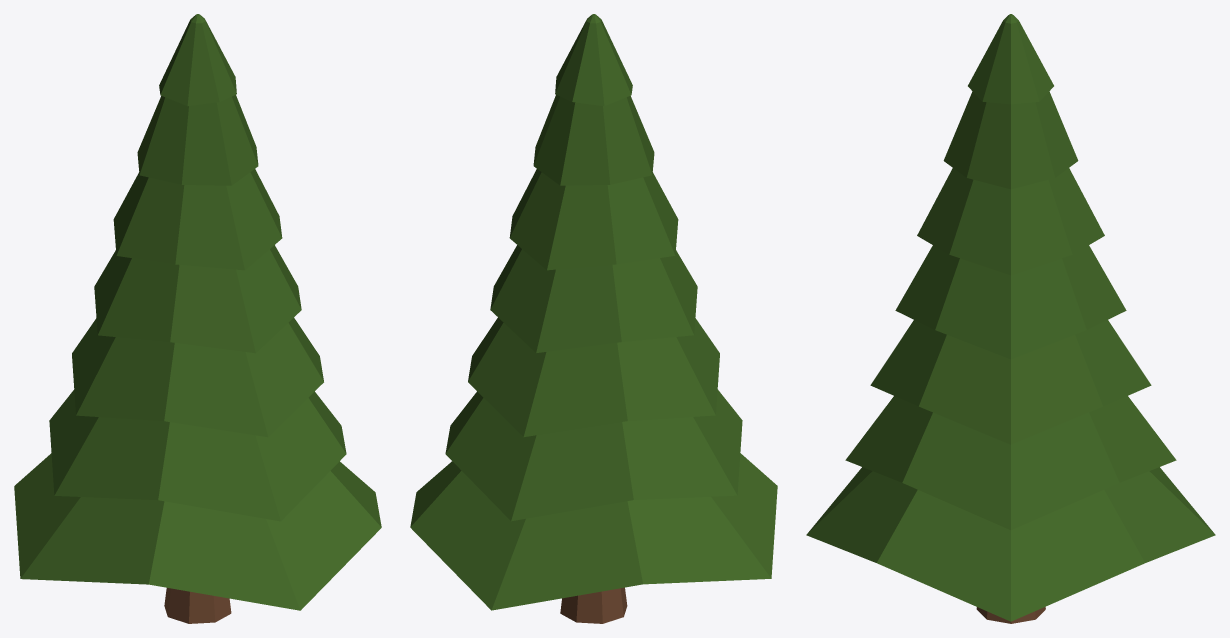
Rendered from Tree.fbx.
The picture shows the model from 3 angles, left to right: view 1: azimuth 30°, elevation 25°; view 2: azimuth 150°, elevation 25°; view 3: azimuth 270°, elevation 25°; orthographic projection.
Parts seen in each view (by area): view 1: Low Poly Tree 5; view 2: Low Poly Tree 5; view 3: Low Poly Tree 5.
Part boxes in pixels (x1,y1,x2,y2): Low Poly Tree 5: (14,14,381,623); Low Poly Tree 5: (410,14,777,623); Low Poly Tree 5: (806,14,1215,623).
Bounding box in the file's own units: 304 × 486 × 304.
